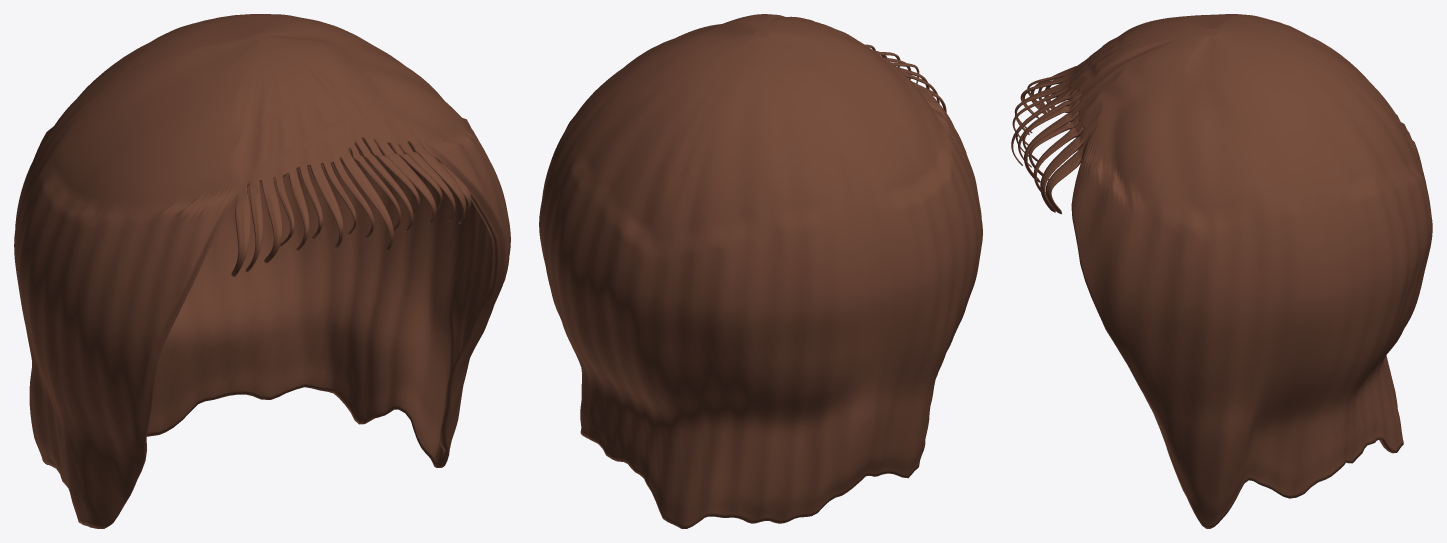
The model's file is side-sweep-headband.glb.
3 views of the same model, side by side, from view 1: azimuth 30°, elevation 25°; view 2: azimuth 150°, elevation 25°; view 3: azimuth 270°, elevation 25° (orthographic). The views are drawn at different scales.
Visible parts, largest first — view 1: Wispy bangs / continuous crown; view 2: Wispy bangs / continuous crown; view 3: Wispy bangs / continuous crown.
Part boxes in pixels (x1,y1,x2,y2): Wispy bangs / continuous crown: (14,14,510,528); Wispy bangs / continuous crown: (539,14,982,528); Wispy bangs / continuous crown: (1011,14,1432,528).
Bounding box in the file's own units: 0.8388 × 0.8786 × 0.7975.
